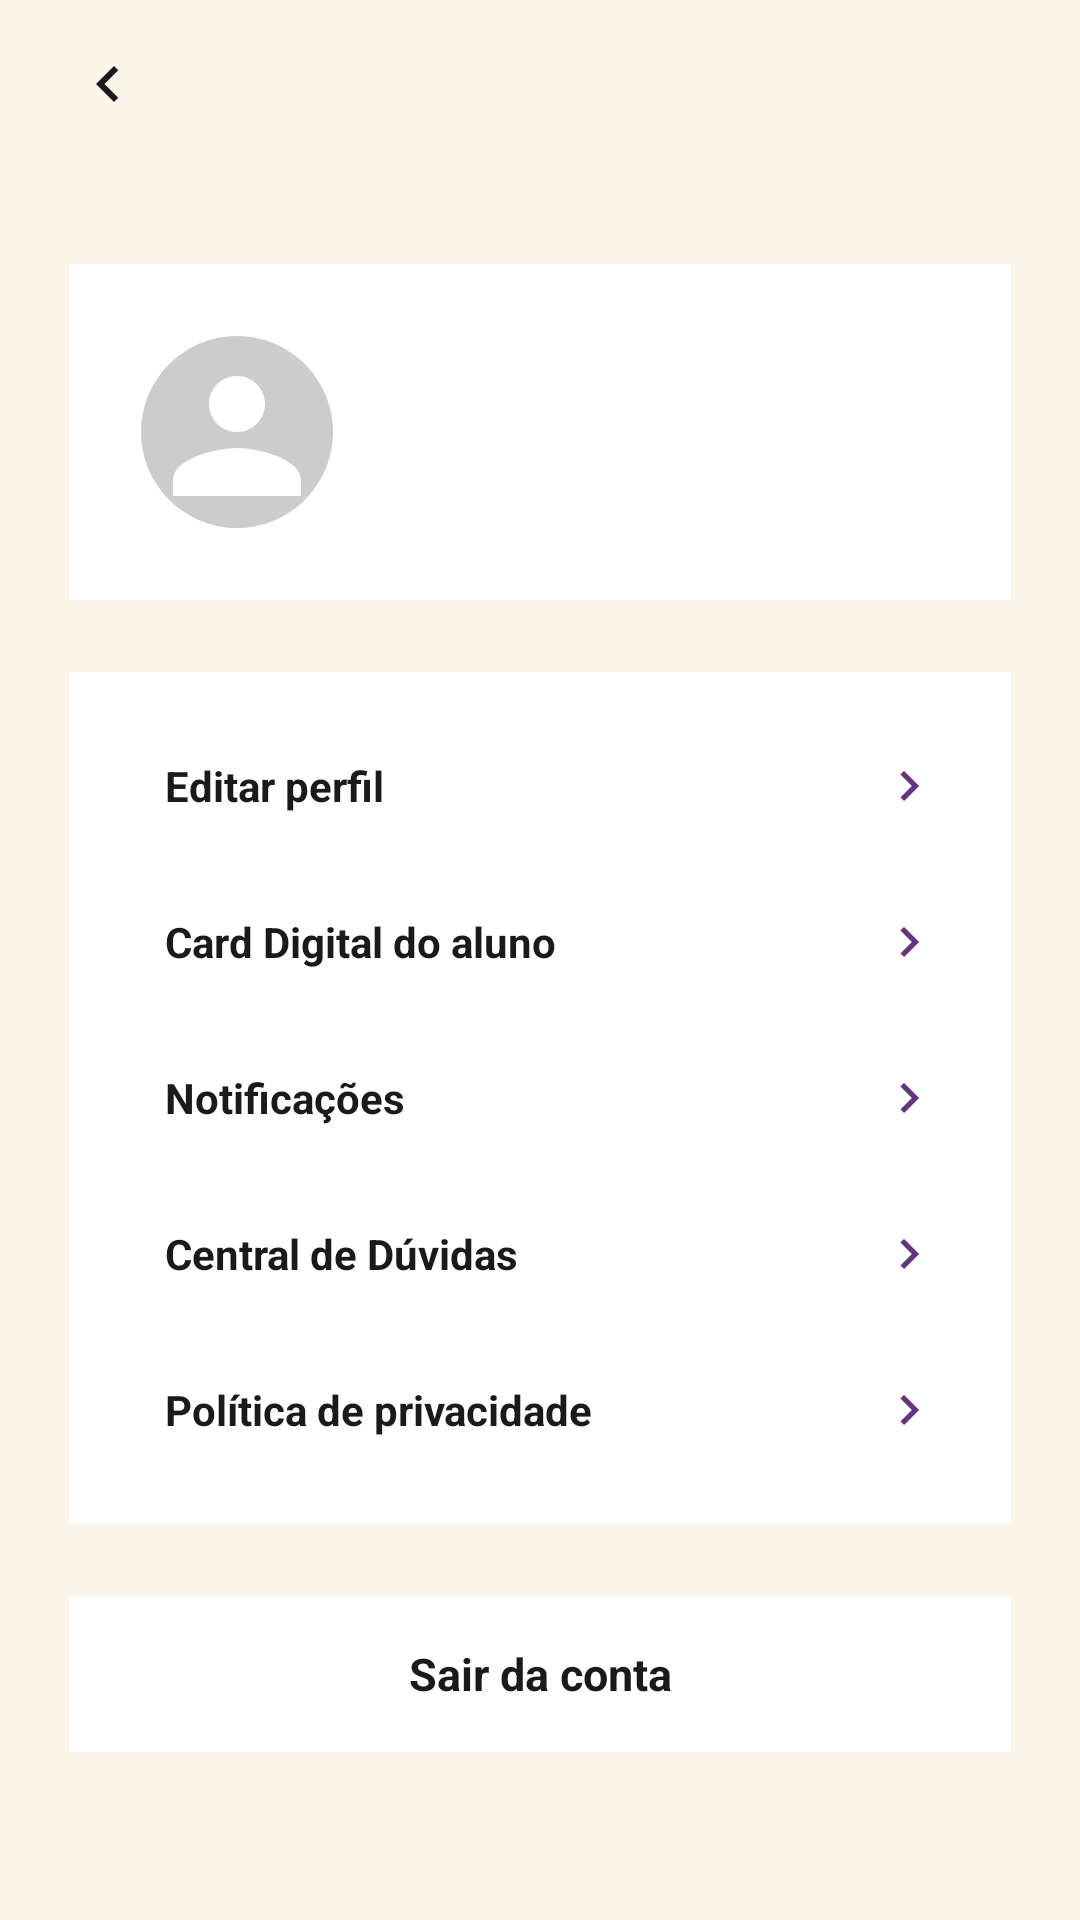

Icons on this 1080 x 1920 Android screen, each with the point to tap as point (x, y):
chevron right: point (909, 786), point (909, 942), point (909, 1098), point (909, 1254), point (909, 1410)
Voltar: point (107, 84)
